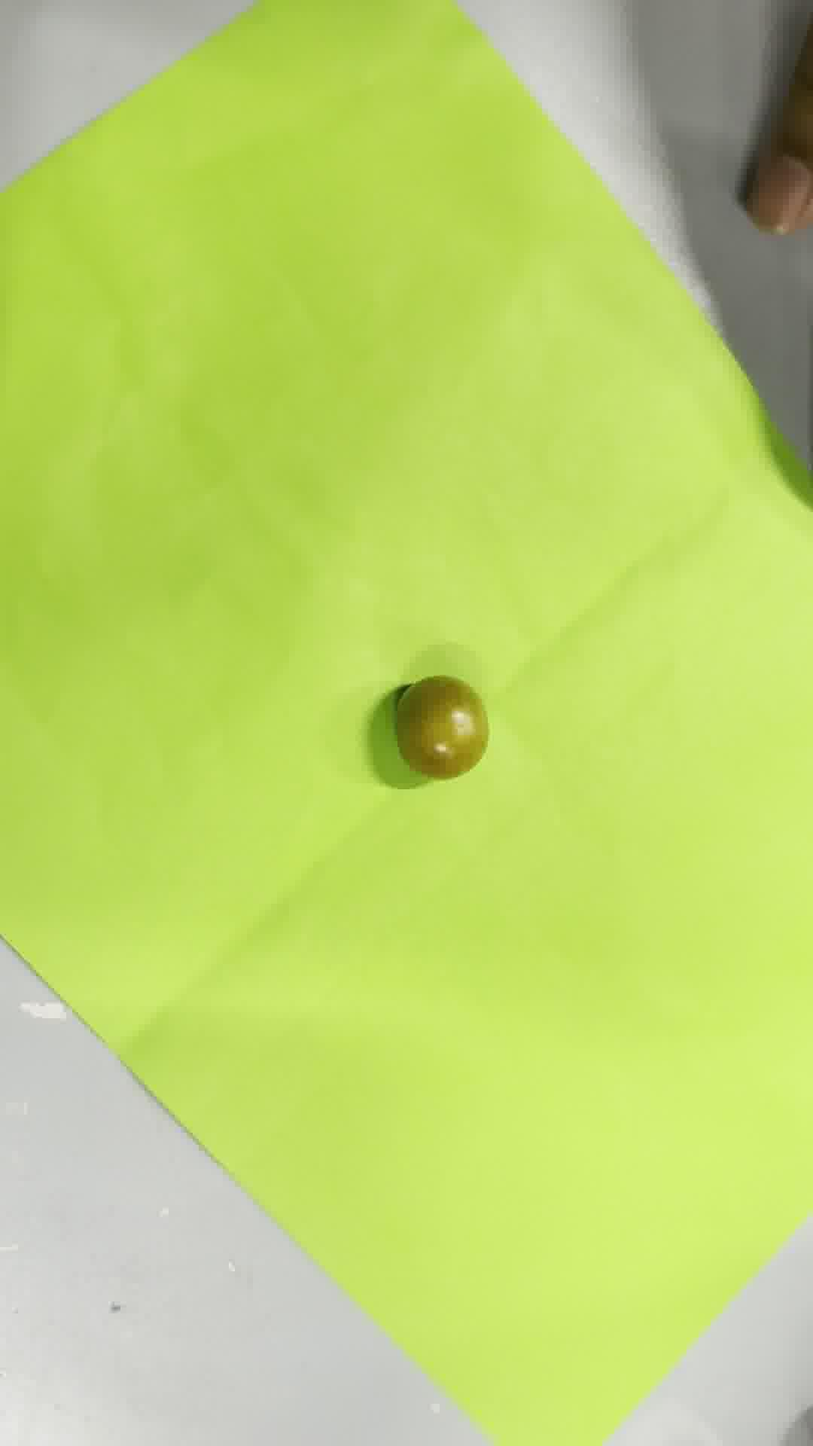yellow_cherry_tomato: (396, 676, 489, 779)
